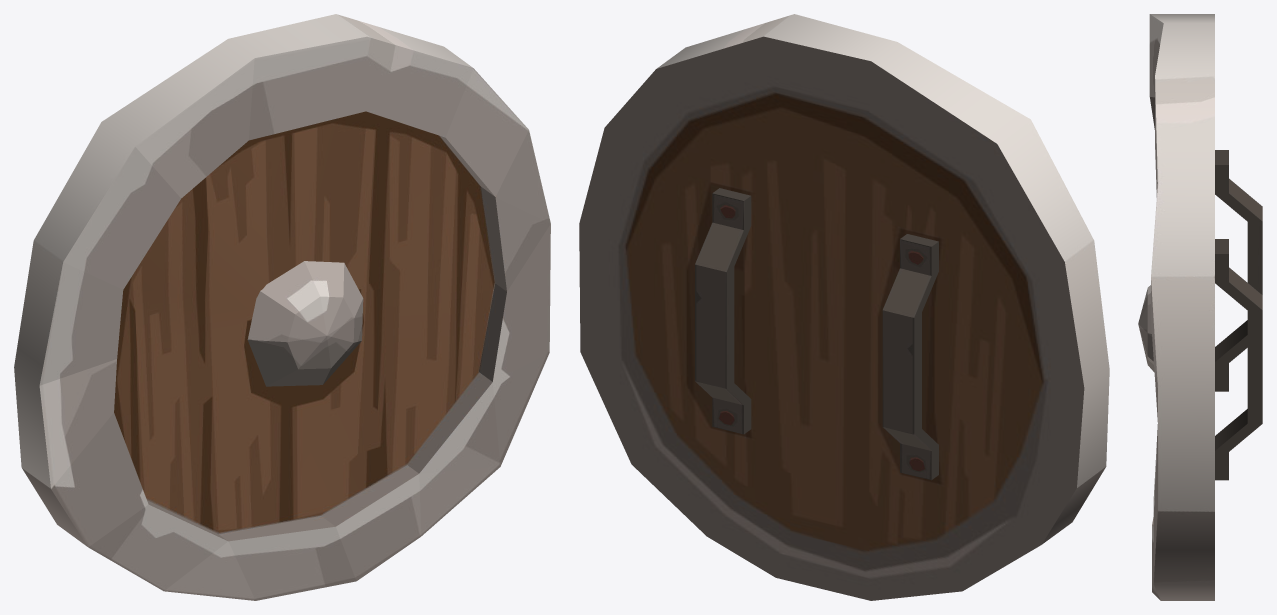
The model's file is Wood_05.FBX.
3 views of the same model, side by side, from view 1: azimuth 30°, elevation 25°; view 2: azimuth 150°, elevation 25°; view 3: azimuth 270°, elevation 25° (orthographic). The views are drawn at different scales.
Parts seen in each view (by area): view 1: Wood_05; view 2: Wood_05; view 3: Wood_05.
Part boxes in pixels (x1,y1,x2,y2): Wood_05: [14, 14, 550, 600]; Wood_05: [579, 14, 1109, 600]; Wood_05: [1138, 14, 1262, 600].
Bounding box in the file's own units: 54.34 × 55.49 × 11.97.
